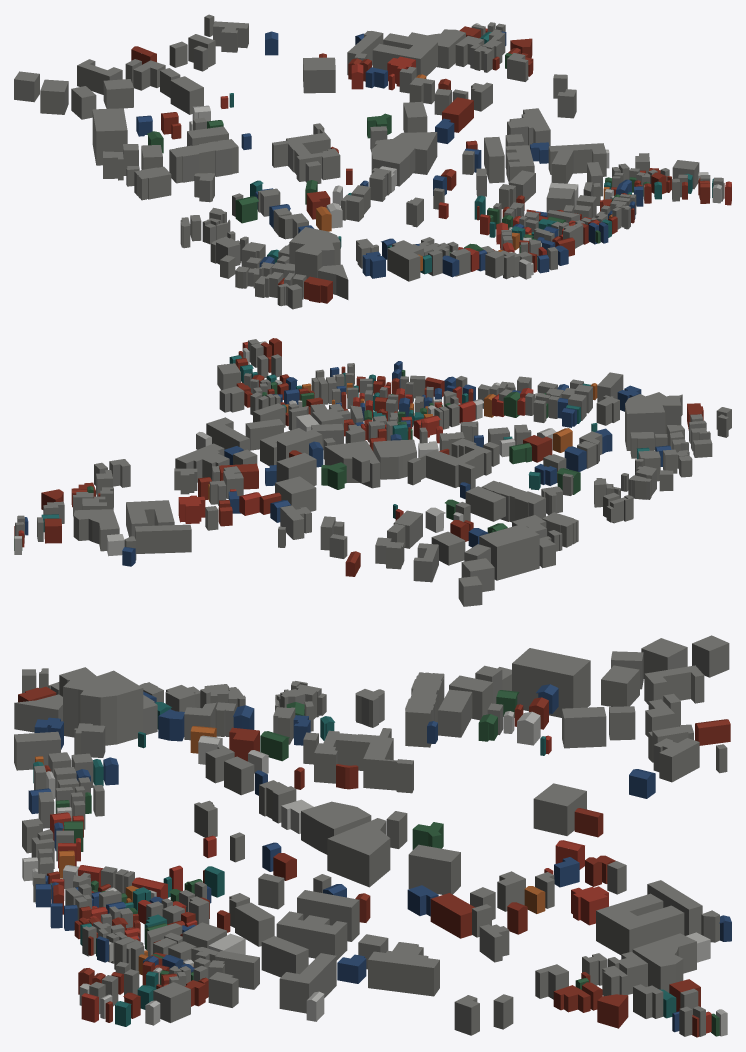
The model's file is near-16-54723-29738.79ae360f.glb.
The picture shows the model from 3 angles, top to bottom: view 1: azimuth 30°, elevation 25°; view 2: azimuth 150°, elevation 25°; view 3: azimuth 270°, elevation 25°; orthographic projection. The views are drawn at different scales.
Size of the model in its own units: 605 by 114 by 601.
